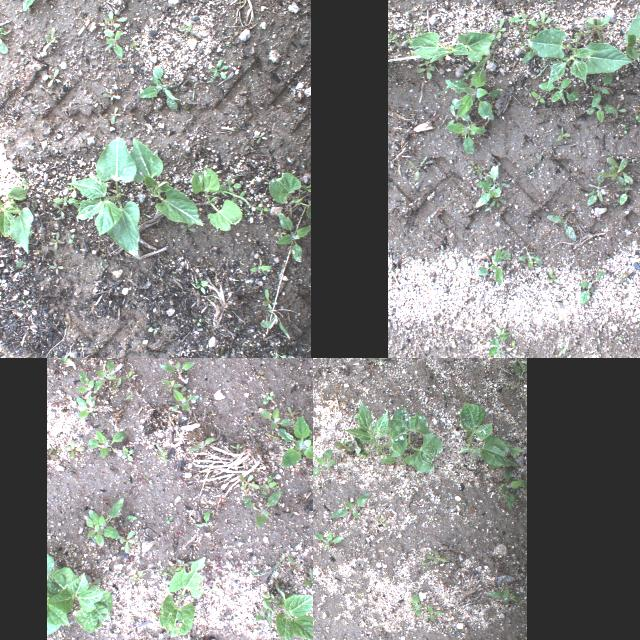crop: (64, 136, 142, 260), (124, 135, 203, 225), (527, 28, 631, 88), (46, 566, 112, 632), (456, 402, 520, 468), (345, 397, 407, 463), (158, 556, 206, 636), (255, 579, 313, 640), (192, 166, 242, 232), (392, 407, 442, 471), (408, 29, 494, 62), (0, 185, 33, 252), (46, 553, 70, 635), (270, 172, 310, 218), (625, 9, 640, 58), (503, 442, 522, 458)
weed: (444, 70, 500, 119), (82, 496, 122, 546), (138, 66, 182, 110), (260, 290, 298, 340), (438, 56, 488, 94), (444, 110, 486, 154), (276, 210, 310, 262), (279, 416, 313, 466), (242, 488, 282, 528), (476, 166, 510, 210), (494, 464, 524, 508), (475, 247, 509, 285), (86, 429, 126, 458), (538, 78, 578, 104), (330, 492, 370, 518), (578, 268, 606, 304), (492, 325, 521, 358), (598, 155, 632, 183), (258, 407, 296, 431), (92, 358, 116, 394), (248, 552, 282, 576), (546, 214, 576, 240), (74, 368, 94, 406), (592, 72, 612, 108), (586, 168, 604, 206), (584, 16, 610, 42), (168, 389, 198, 411), (313, 449, 335, 479), (520, 242, 542, 270), (513, 20, 531, 52), (489, 588, 521, 606), (6, 0, 56, 11), (586, 103, 616, 121), (104, 30, 122, 59), (406, 156, 426, 180), (314, 530, 344, 546), (104, 10, 128, 28), (237, 472, 260, 490), (65, 439, 85, 459), (508, 12, 536, 26), (617, 176, 631, 204), (260, 472, 276, 496), (406, 592, 422, 616), (160, 361, 194, 372), (189, 436, 215, 450), (50, 196, 80, 208), (209, 60, 229, 78), (415, 59, 433, 79), (119, 531, 135, 553), (76, 396, 92, 418), (216, 178, 240, 192), (535, 56, 551, 76), (426, 550, 446, 566), (512, 364, 526, 386), (423, 604, 442, 620), (534, 12, 550, 30), (84, 573, 102, 589), (193, 509, 209, 527), (492, 17, 506, 37), (155, 444, 167, 466), (0, 27, 10, 53), (486, 337, 499, 357), (530, 90, 546, 106), (286, 554, 300, 572), (334, 438, 352, 452), (396, 452, 414, 466), (303, 566, 313, 591), (195, 278, 209, 294), (524, 22, 538, 38), (284, 406, 300, 420), (46, 358, 73, 366), (250, 265, 270, 275), (160, 380, 180, 390), (520, 49, 534, 63), (546, 268, 560, 282), (556, 126, 570, 140), (61, 544, 75, 558), (266, 428, 280, 442), (130, 570, 146, 582), (46, 446, 58, 462), (448, 105, 458, 124), (574, 26, 592, 36), (510, 358, 526, 369), (388, 32, 400, 46), (412, 22, 426, 34), (120, 448, 134, 460), (176, 558, 196, 566), (472, 164, 483, 178), (262, 390, 274, 402), (242, 480, 254, 492), (616, 104, 626, 118), (130, 536, 140, 550), (118, 369, 132, 379), (466, 159, 476, 171), (230, 558, 240, 570), (208, 540, 218, 552), (174, 385, 186, 395), (375, 516, 387, 526), (420, 558, 430, 570), (124, 514, 138, 522), (457, 205, 468, 215), (204, 573, 214, 583), (143, 474, 153, 484), (372, 358, 392, 363), (112, 377, 120, 389), (164, 514, 173, 524), (89, 533, 98, 543), (168, 566, 182, 572), (549, 20, 559, 28), (255, 371, 265, 379), (508, 41, 516, 50), (404, 34, 412, 42), (418, 6, 426, 14), (154, 570, 168, 574), (634, 112, 640, 121), (214, 555, 220, 563), (530, 165, 536, 172), (623, 123, 627, 133), (546, 0, 553, 2)
